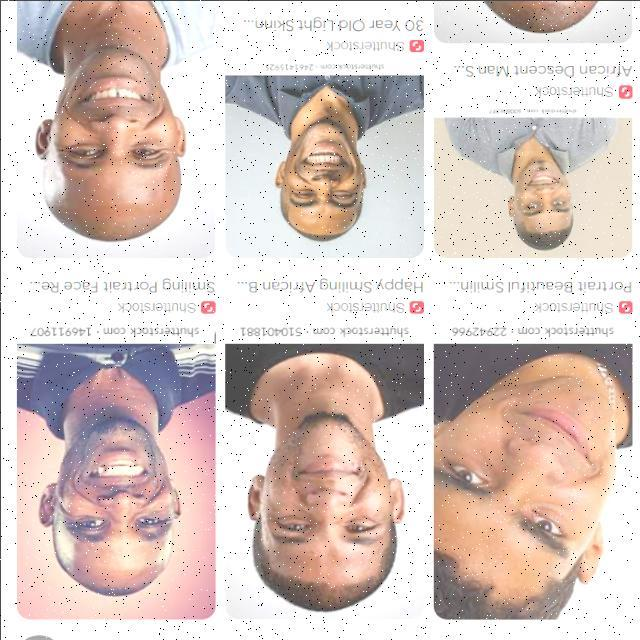face_no_mask: (437, 374, 625, 605), (245, 411, 408, 586), (34, 47, 191, 217), (39, 418, 185, 585), (274, 118, 371, 238), (507, 156, 574, 237)
